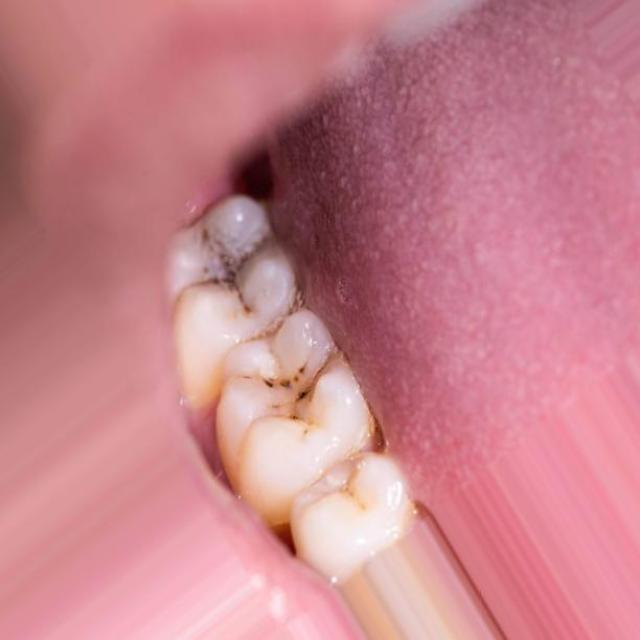caries: (247, 329, 340, 435), (181, 224, 268, 316)
